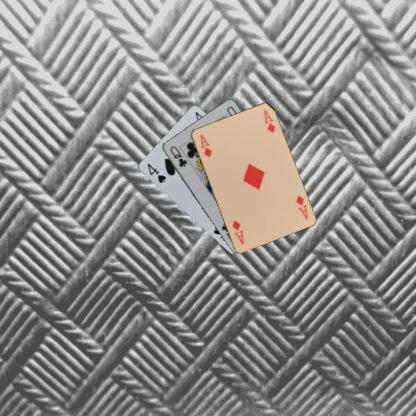4s: (144, 161, 167, 184)
Ad: (197, 131, 213, 158), (293, 193, 309, 220)
Qc: (167, 143, 188, 169)
